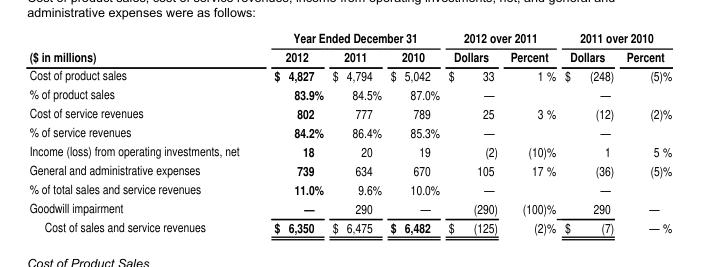table: (28, 28, 671, 235)
table column: (28, 28, 256, 235), (256, 28, 327, 235), (443, 28, 503, 235), (559, 28, 619, 235), (327, 28, 385, 235), (385, 28, 443, 235), (503, 28, 559, 235), (619, 28, 671, 235)
table column header: (28, 28, 671, 65)
table row: (28, 46, 671, 65), (28, 65, 671, 84), (28, 84, 671, 103), (28, 103, 671, 122), (28, 122, 671, 141), (28, 141, 671, 160), (28, 160, 671, 179), (28, 179, 671, 198), (28, 216, 671, 235), (28, 28, 671, 46), (28, 198, 671, 216)
table spanning cell: (28, 28, 256, 65), (256, 28, 443, 46), (443, 28, 559, 46), (559, 28, 671, 46)
